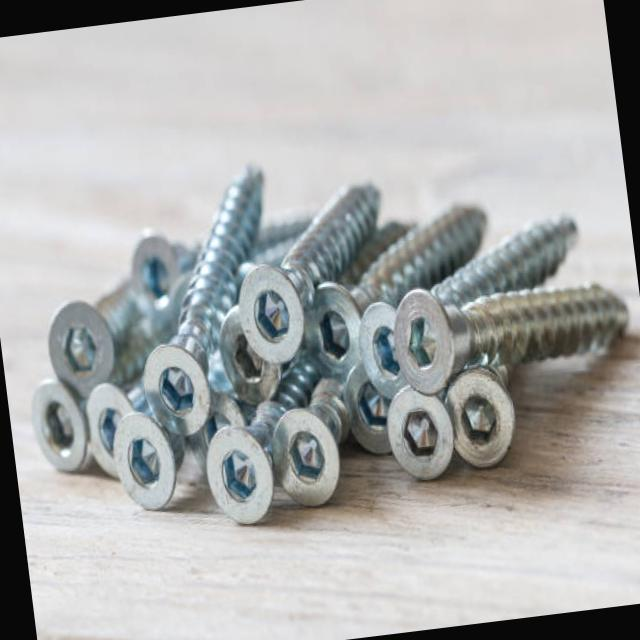Hex Socket Allen: (442, 368, 530, 472), (377, 380, 458, 484), (202, 420, 280, 526), (266, 404, 344, 509), (33, 296, 118, 391), (390, 281, 458, 384), (231, 264, 305, 357), (110, 416, 177, 508), (215, 310, 279, 402), (339, 360, 402, 444), (303, 284, 362, 368), (144, 351, 209, 427), (355, 299, 408, 390)
